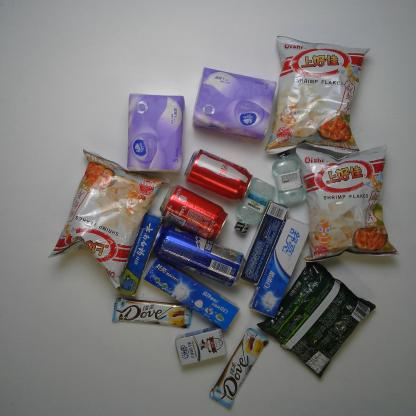Alcohol: (152, 224, 248, 287)
Chocolate: (208, 327, 269, 408), (112, 296, 192, 330)
Drink: (159, 184, 229, 240), (183, 148, 253, 202)
Instant Noodles: (256, 258, 376, 378)
Milk: (175, 326, 227, 366)
Personal Hygiene: (143, 256, 240, 329), (249, 215, 310, 319), (238, 200, 289, 286), (117, 212, 163, 298), (234, 176, 276, 235), (272, 148, 306, 205)
Puffed Food: (48, 148, 171, 290), (264, 35, 371, 157), (294, 142, 400, 262)
Tissue: (192, 66, 278, 141), (127, 92, 185, 173)
